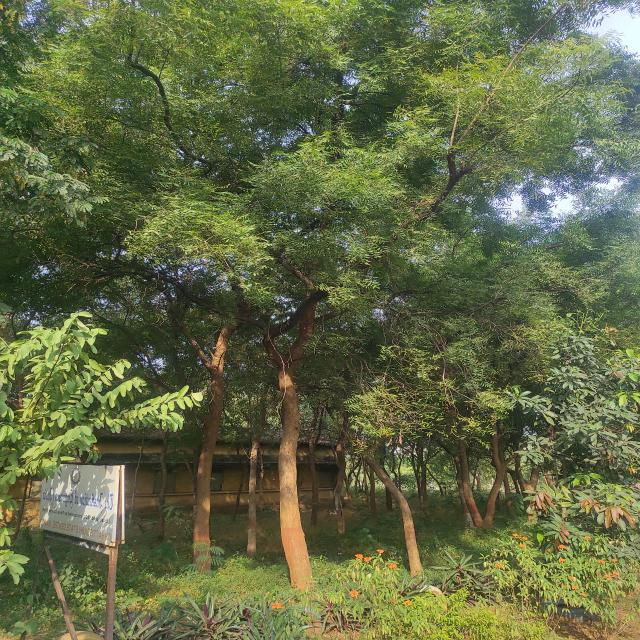Mango Tree: (512, 366, 640, 537)
Neem Tree: (1, 1, 640, 337)
